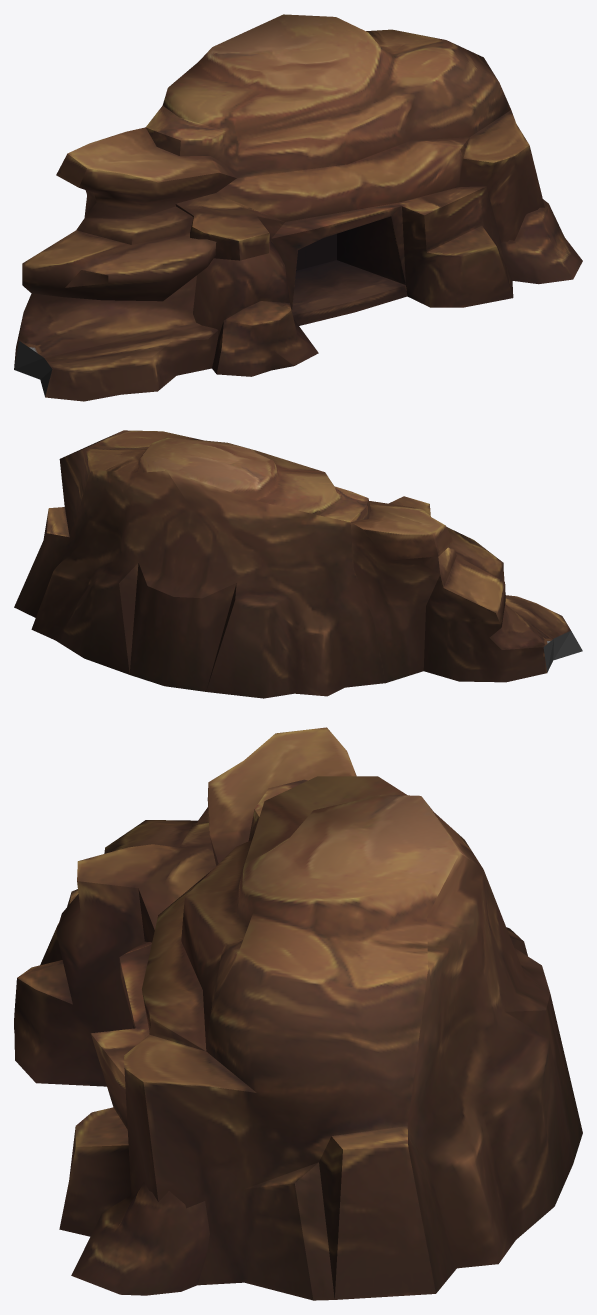
File: ShanDong03.FBX
3 renders of one model, top to bottom at view 1: azimuth 30°, elevation 25°; view 2: azimuth 150°, elevation 25°; view 3: azimuth 270°, elevation 25°, orthographic. The views are drawn at different scales.
Parts seen in each view (by area): view 1: 对象004; view 2: 对象004; view 3: 对象004.
Boxes of the visible parts, x1,y1,x2,y2 form: 对象004: [14, 14, 582, 401]; 对象004: [14, 430, 582, 698]; 对象004: [14, 727, 582, 1300].
Size of the model in its own units: 604 by 218 by 365.
